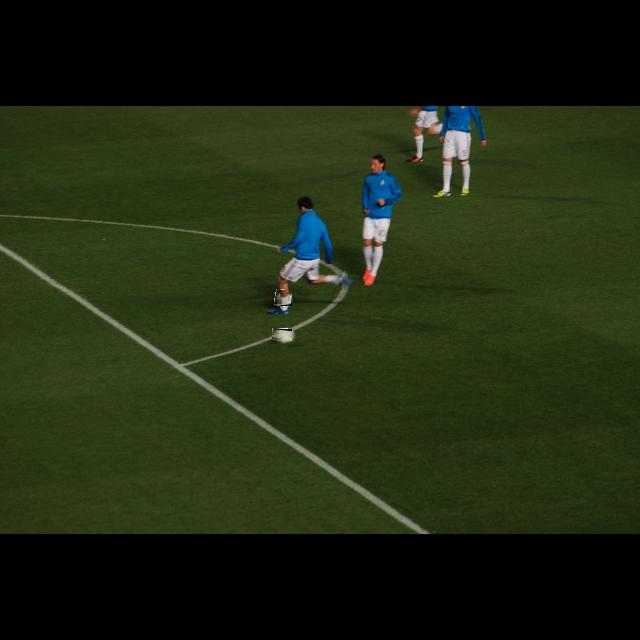Football: (274, 290, 292, 306), (272, 329, 292, 341)
